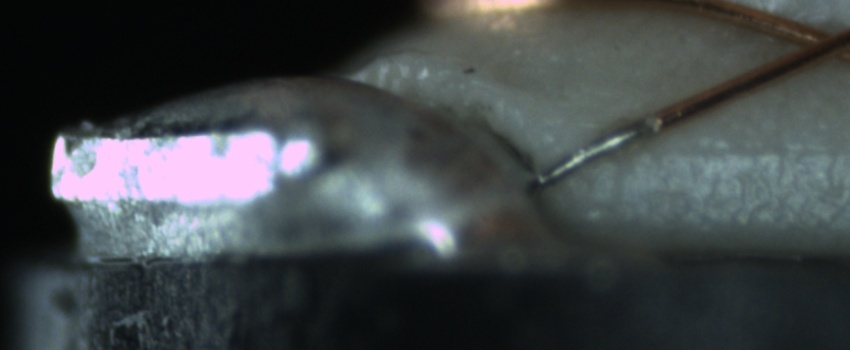CL: (771, 15, 846, 71)
DL: (628, 117, 850, 181)
TS: (536, 116, 658, 185)
